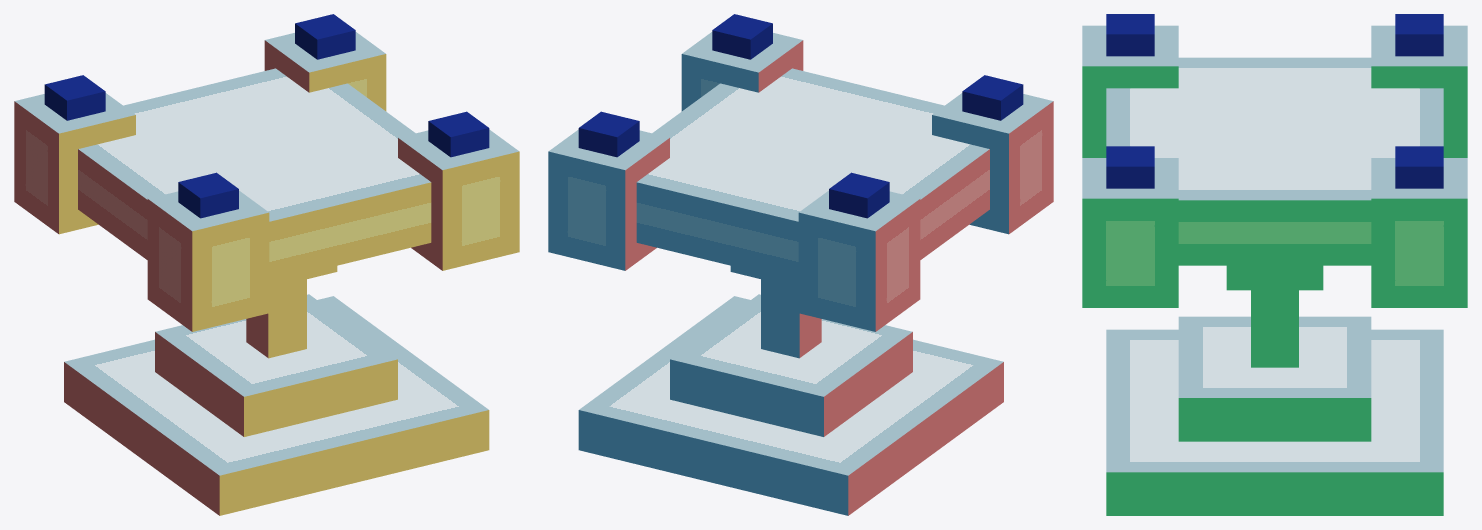
File: Ring crafter - Converted.obj
The picture shows the model from 3 angles, left to right: view 1: azimuth 30°, elevation 25°; view 2: azimuth 150°, elevation 25°; view 3: azimuth 270°, elevation 25°; orthographic projection. The views are drawn at different scales.
Parts seen in each view (by area): view 1: layer 6, base, layer2, corner4, corner3, corner1, corner2, layer3, gem4, gem1, gem2, gem3; view 2: layer 6, base, layer2, corner1, corner2, corner4, corner3, layer3, gem3, gem2, gem1, gem4; view 3: layer 6, base, layer2, corner2, corner3, corner1, corner4, layer3, layer4, gem1, gem2, gem3 (+1 smaller).
Boxes of the visible parts, x1,y1,x2,y2 form: layer 6: (78, 68, 431, 281); base: (64, 296, 489, 515); layer2: (155, 294, 397, 436); corner4: (147, 190, 269, 331); corner3: (398, 129, 519, 270); corner1: (14, 93, 135, 234); corner2: (264, 32, 386, 111); layer3: (246, 279, 306, 358); gem4: (428, 111, 489, 157); gem1: (44, 75, 105, 120); gem2: (178, 172, 238, 218); gem3: (295, 14, 355, 59); layer 6: (636, 68, 989, 281); base: (578, 296, 1003, 515); layer2: (670, 294, 912, 436); corner1: (798, 190, 920, 331); corner2: (548, 129, 669, 270); corner4: (932, 93, 1053, 234); corner3: (681, 32, 803, 111); layer3: (761, 279, 821, 358); gem3: (578, 111, 639, 157); gem2: (962, 75, 1023, 120); gem1: (829, 172, 889, 218); gem4: (712, 14, 772, 59); layer 6: (1106, 57, 1443, 265); base: (1106, 329, 1443, 515); layer2: (1178, 316, 1371, 441); corner2: (1371, 158, 1467, 307); corner3: (1082, 158, 1178, 307); corner1: (1371, 25, 1467, 157); corner4: (1082, 25, 1178, 157); layer3: (1251, 290, 1298, 367); layer4: (1226, 265, 1323, 290); gem1: (1395, 14, 1443, 56); gem2: (1106, 14, 1154, 56); gem3: (1395, 146, 1443, 188).
Bounding box in the file's own units: 1.06 × 1 × 1.
